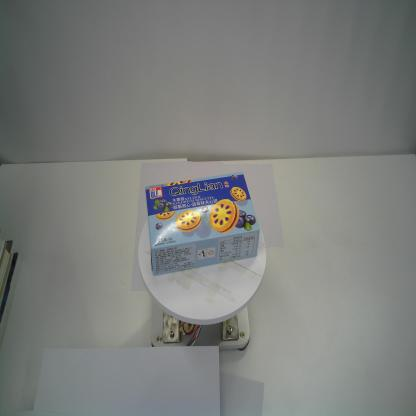Dessert: (144, 170, 261, 276)
